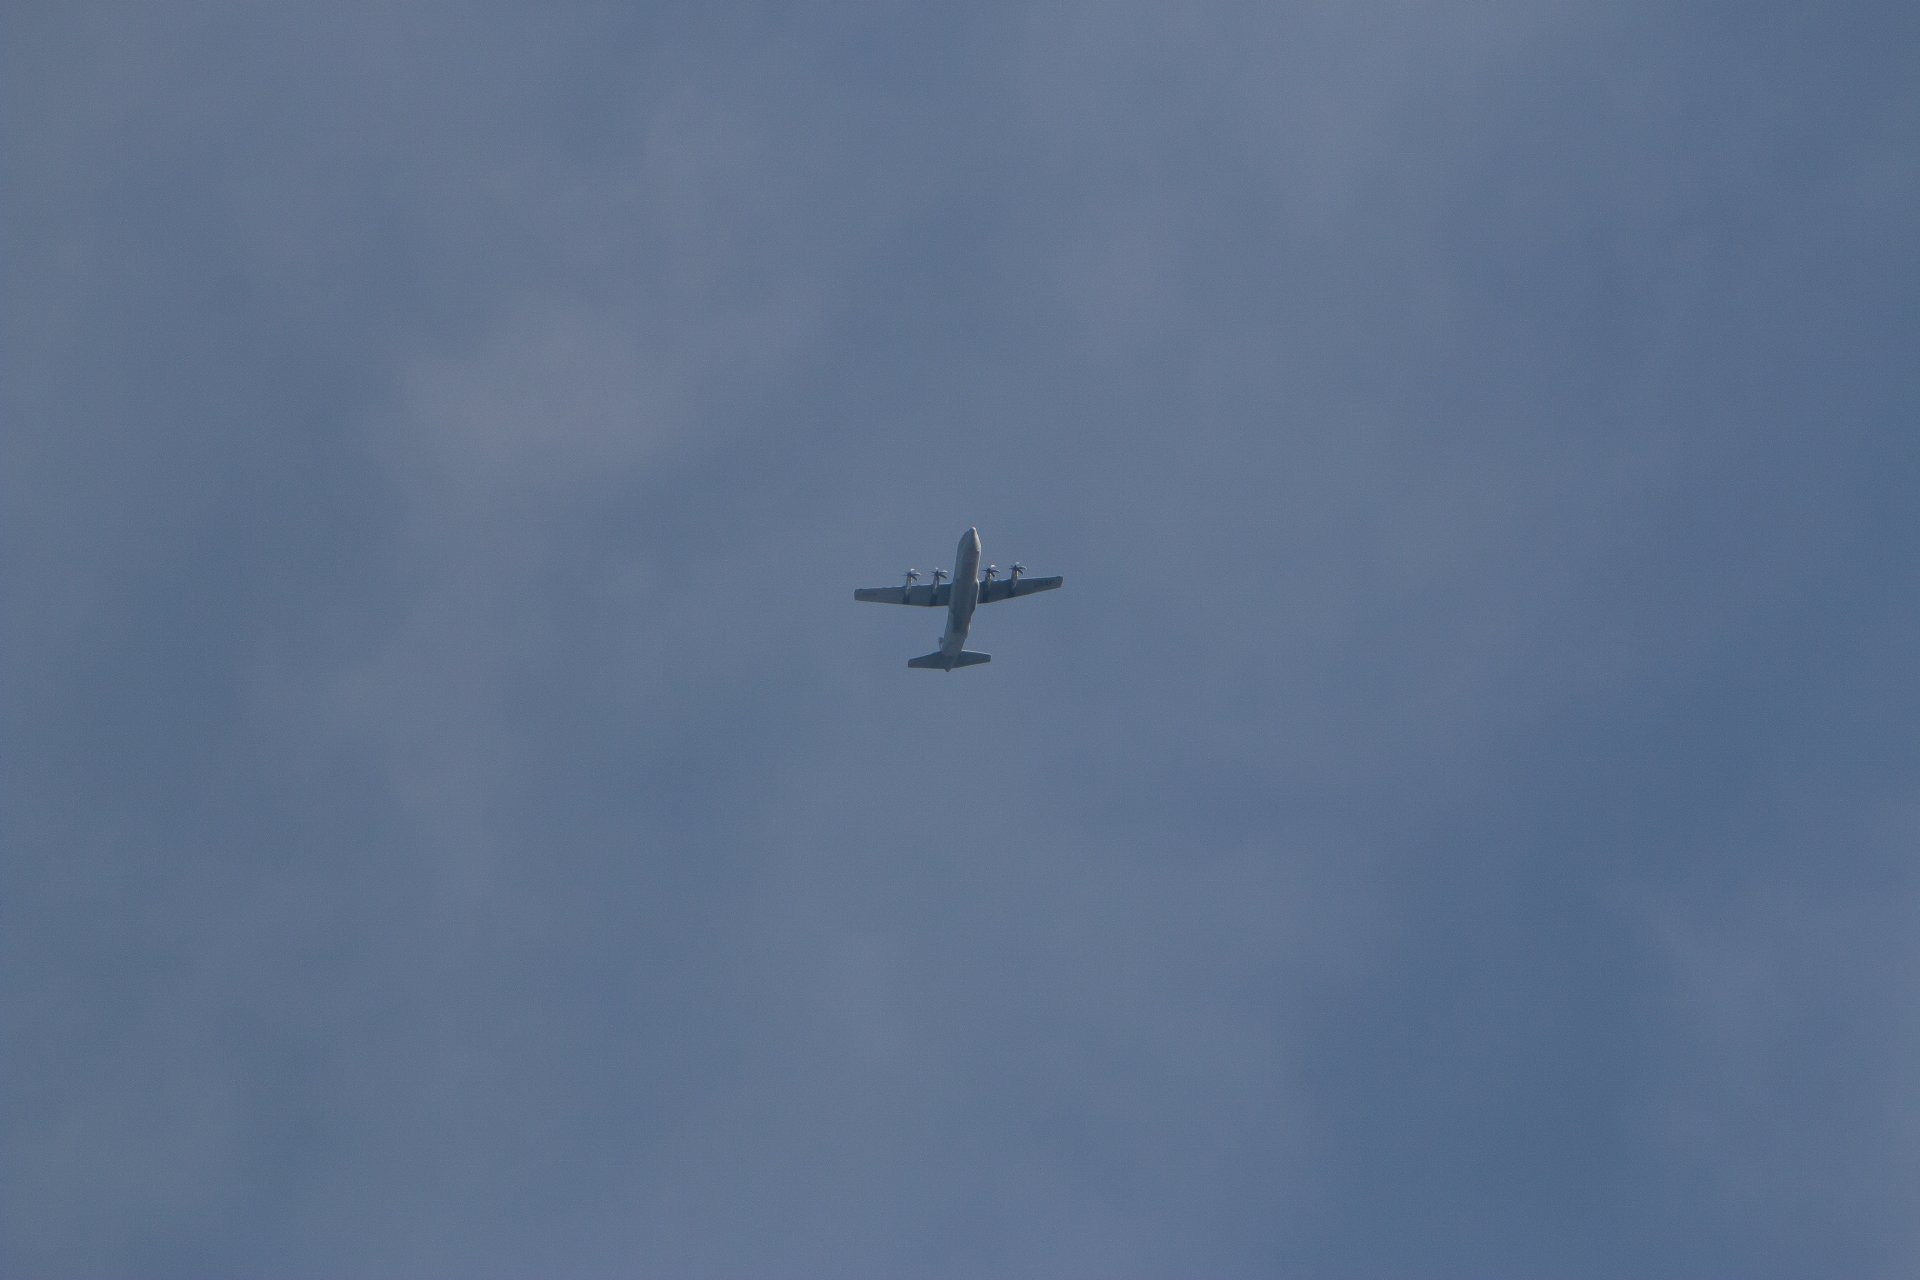airplane: (853, 526, 1064, 673)
